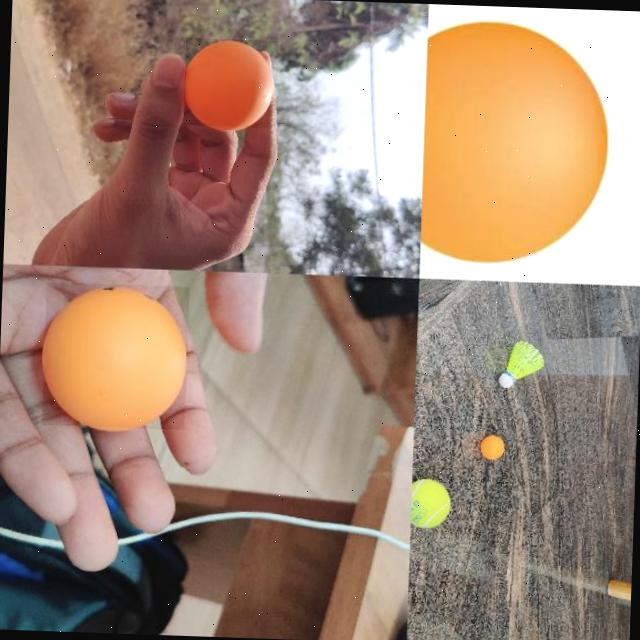ping-pong-ball: (420, 17, 613, 266), (39, 282, 188, 431), (181, 36, 276, 130), (479, 434, 504, 459)
